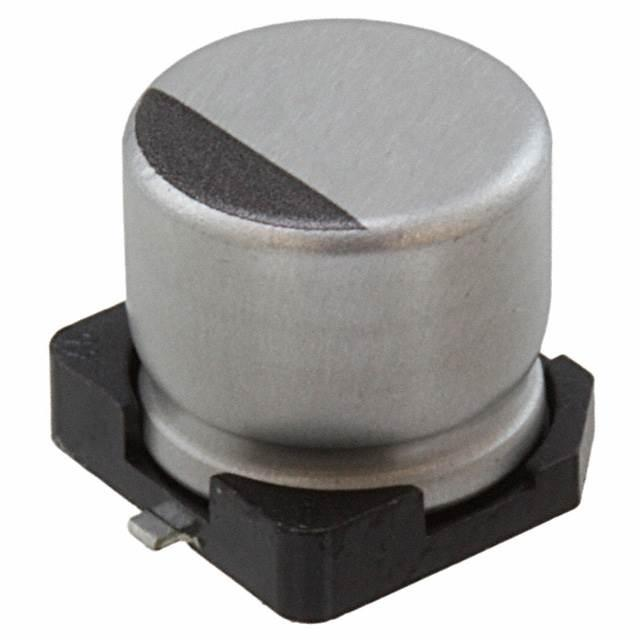Capacitor: (91, 22, 591, 533)
